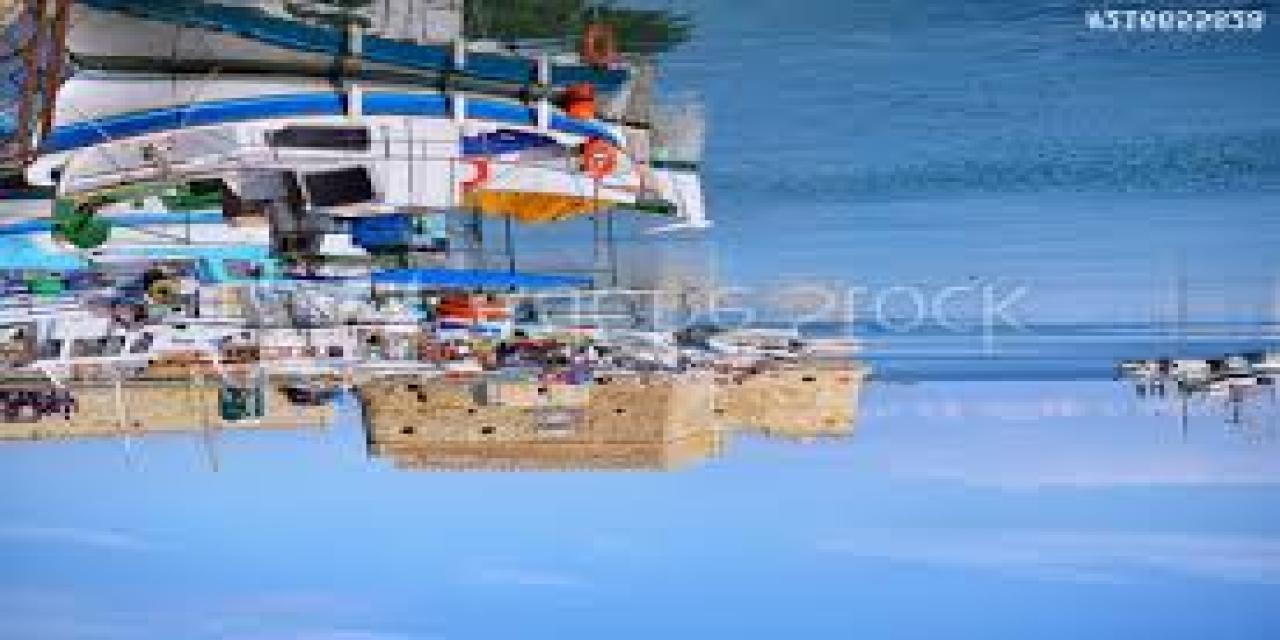Kules: (353, 360, 876, 498)
